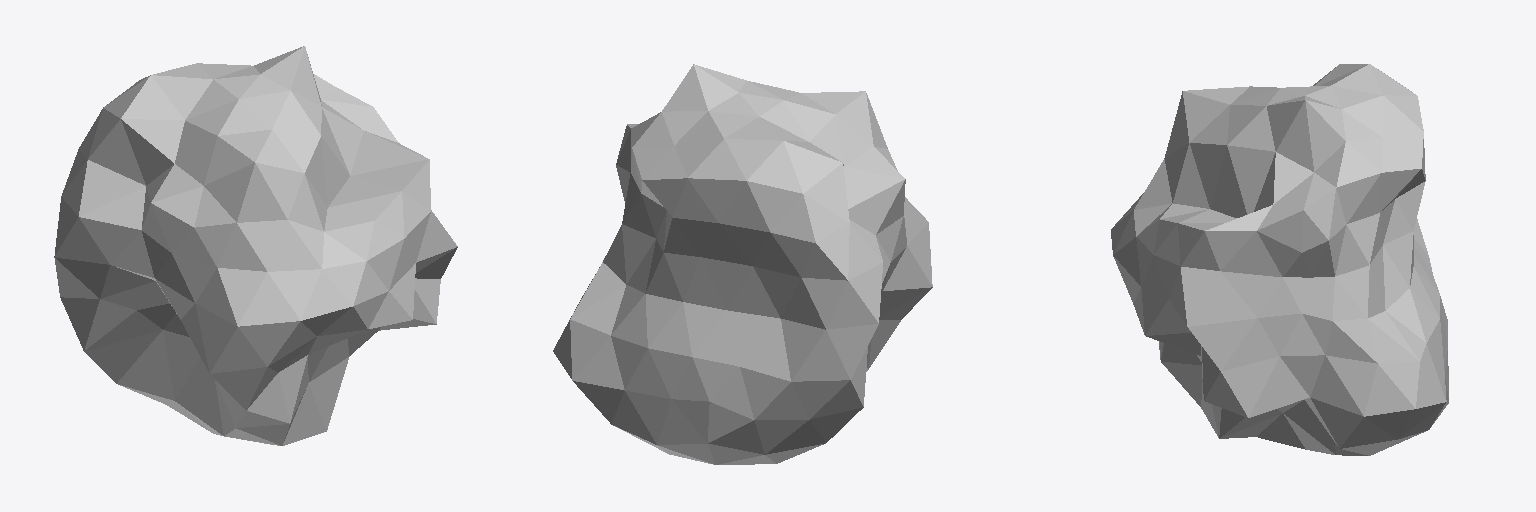
The model's file is bymaga2.obj.
3 renders of one model, left to right at view 1: azimuth 30°, elevation 25°; view 2: azimuth 150°, elevation 25°; view 3: azimuth 270°, elevation 25°, orthographic.
Parts seen in each view (by area): view 1: Icosphere; view 2: Icosphere; view 3: Icosphere.
Part boxes in pixels (x1,y1,x2,y2): Icosphere: (54,46,457,445); Icosphere: (553,64,932,464); Icosphere: (1111,64,1448,455).
Bounding box in the file's own units: 0.8069 × 0.9175 × 0.7566.